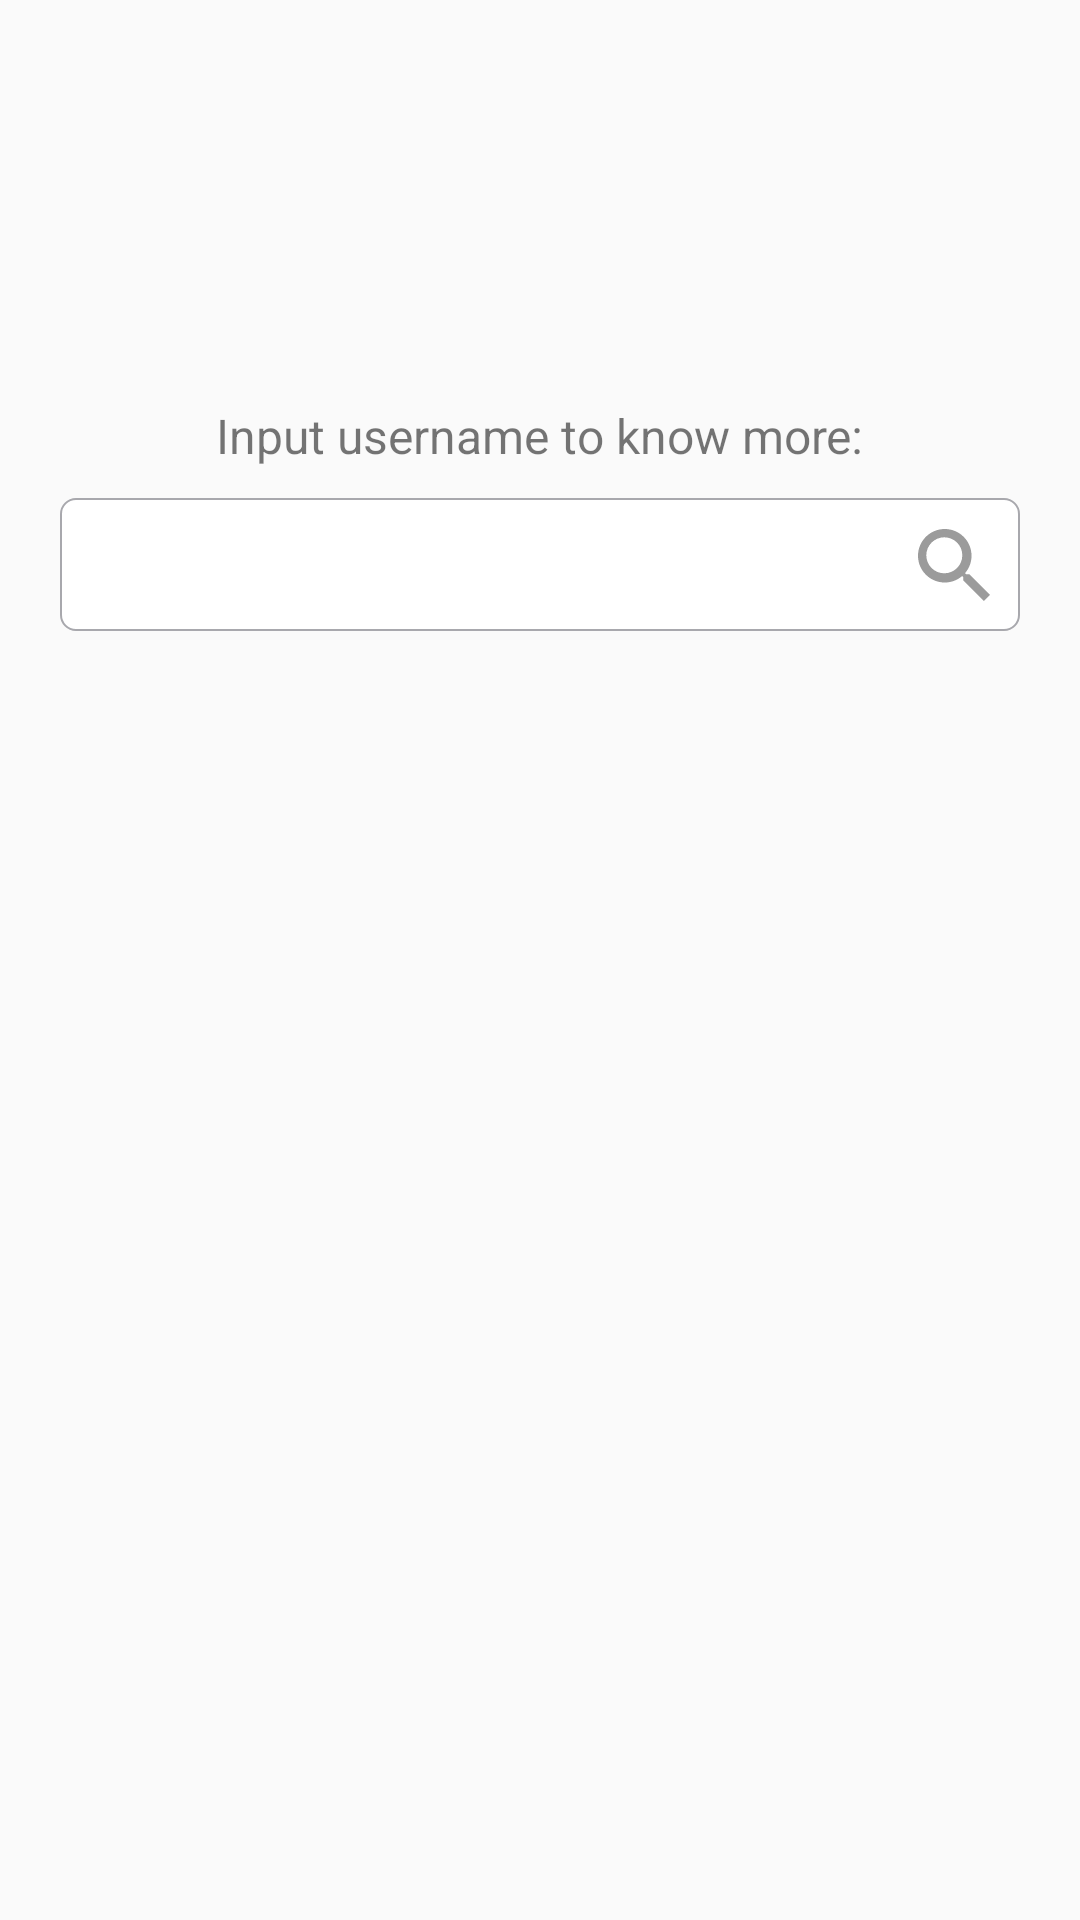

Icon bounding boxes for this 1080px x 1920px phone screenshot, format (x1, y1, x2, y2):
search: (918, 529, 990, 601)
